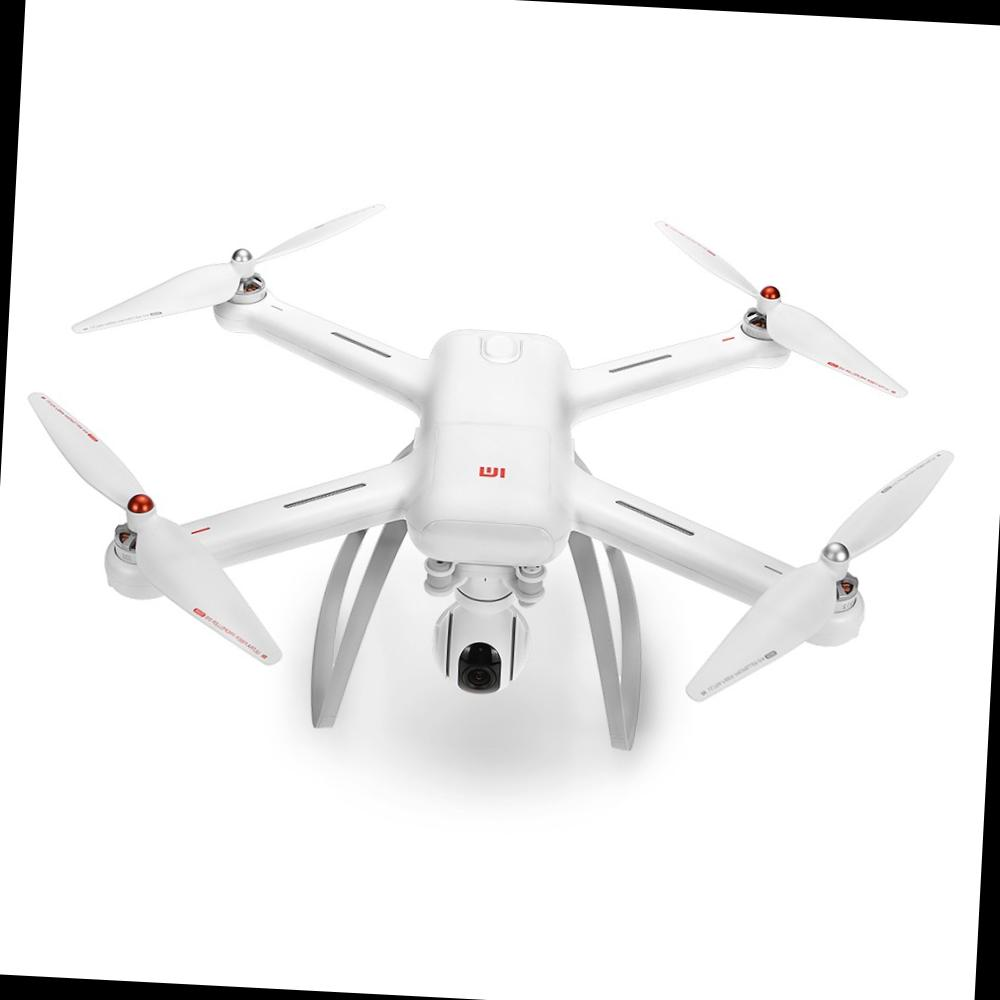drone: (25, 187, 958, 759)
